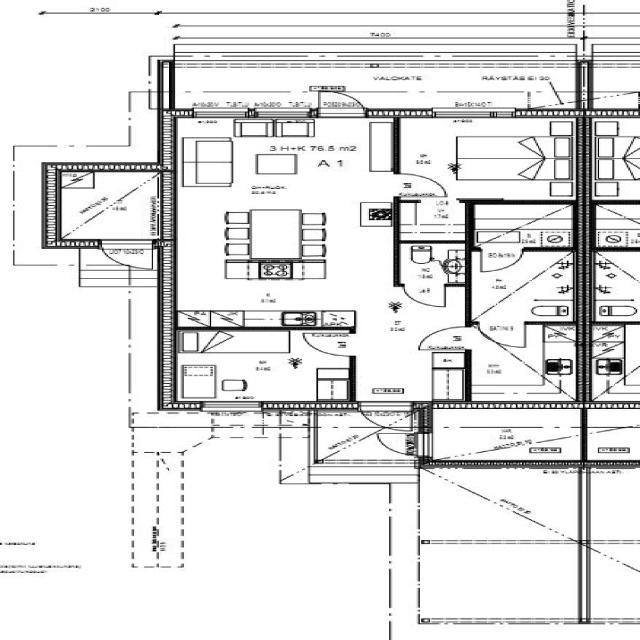door: (97, 240, 157, 269), (298, 329, 357, 358), (392, 171, 450, 199), (416, 326, 473, 352), (314, 90, 367, 117), (475, 246, 526, 273), (357, 404, 413, 428), (375, 431, 425, 457), (400, 284, 452, 308)
window: (429, 108, 514, 120), (186, 106, 255, 120), (245, 106, 318, 119), (199, 400, 264, 412), (382, 553, 399, 573)
zone: (170, 117, 397, 327), (395, 116, 581, 201), (415, 543, 585, 624), (172, 330, 352, 404), (423, 468, 577, 542), (426, 403, 585, 463), (472, 323, 586, 400), (55, 168, 169, 242), (466, 249, 578, 323), (469, 205, 580, 248), (397, 242, 470, 285), (397, 200, 468, 240)
